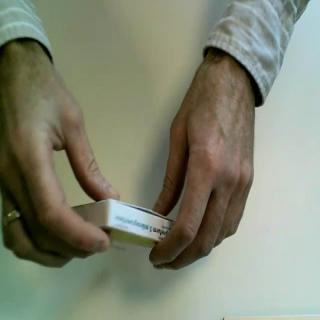buprefarm5ug_hour: (69, 198, 177, 262)
